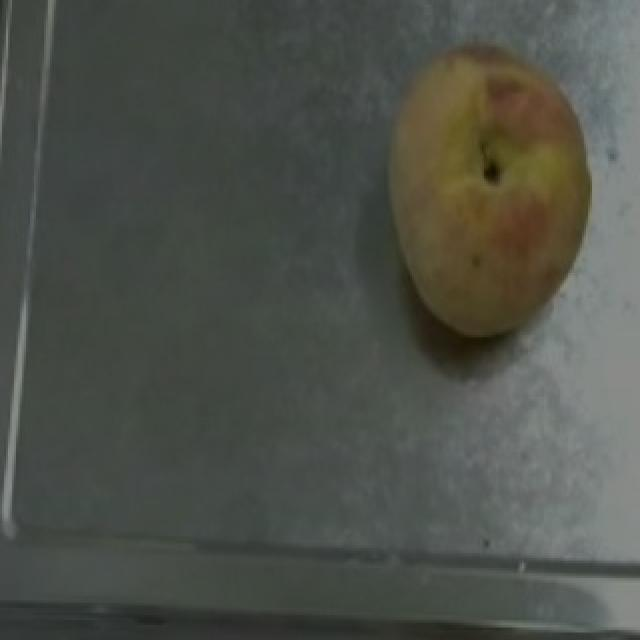Fruit: (352, 22, 618, 350)
